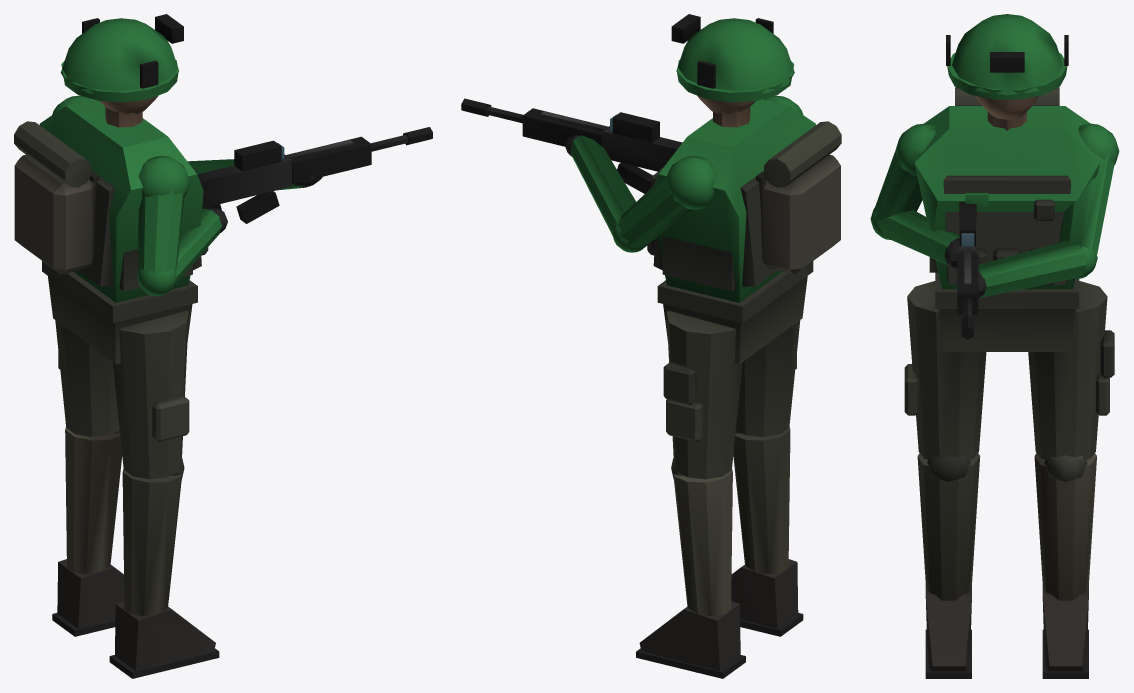
Rendered from u_rifle.glb.
The picture shows the model from 3 angles, left to right: view 1: azimuth 30°, elevation 25°; view 2: azimuth 150°, elevation 25°; view 3: azimuth 270°, elevation 25°; orthographic projection.
Visible parts, largest first — view 1: Rifle_Walls, Rifle_shL, Rifle_shR, Rifle_thL, Rifle_Details, Rifle_thR; view 2: Rifle_Walls, Rifle_shR, Rifle_shL, Rifle_Details, Rifle_thR, Rifle_thL; view 3: Rifle_Walls, Rifle_shL, Rifle_shR, Rifle_thL, Rifle_thR, Rifle_Details.
Part boxes in pixels (left/top/right/bottom): Rifle_Walls: left=14, top=18, right=432, bottom=363; Rifle_shL: left=109, top=458, right=219, bottom=678; Rifle_shR: left=52, top=427, right=124, bottom=636; Rifle_thL: left=112, top=310, right=188, bottom=479; Rifle_Details: left=14, top=14, right=208, bottom=441; Rifle_thR: left=55, top=320, right=119, bottom=437; Rifle_Walls: left=461, top=18, right=840, bottom=364; Rifle_shR: left=636, top=458, right=745, bottom=678; Rifle_shL: left=731, top=427, right=803, bottom=636; Rifle_Details: left=647, top=14, right=841, bottom=441; Rifle_thR: left=666, top=310, right=742, bottom=479; Rifle_thL: left=736, top=320, right=800, bottom=437; Rifle_Walls: left=870, top=14, right=1119, bottom=351; Rifle_shL: left=917, top=453, right=980, bottom=678; Rifle_shR: left=1034, top=453, right=1096, bottom=678; Rifle_thL: left=907, top=281, right=986, bottom=460; Rifle_thR: left=1028, top=281, right=1107, bottom=460; Rifle_Details: left=904, top=35, right=1114, bottom=415.
Size of the model in its own units: 0.381 by 0.5985 by 0.2147.
